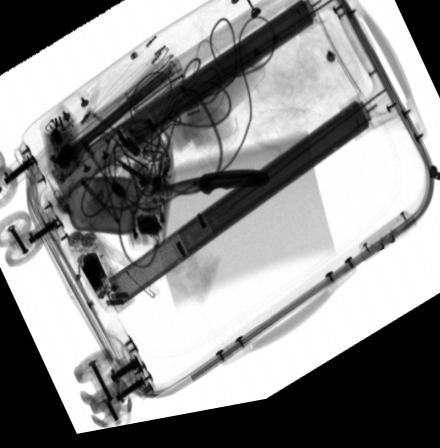Knife: (148, 179, 269, 203)
